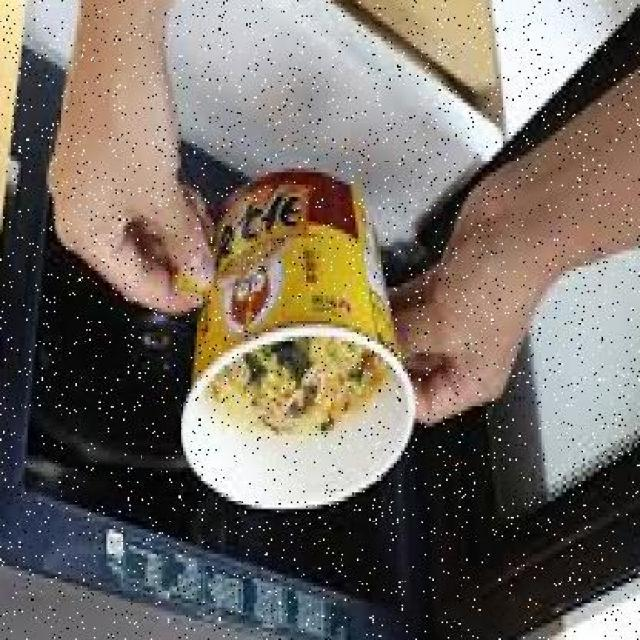Miscellaneous: (160, 182, 403, 515)
